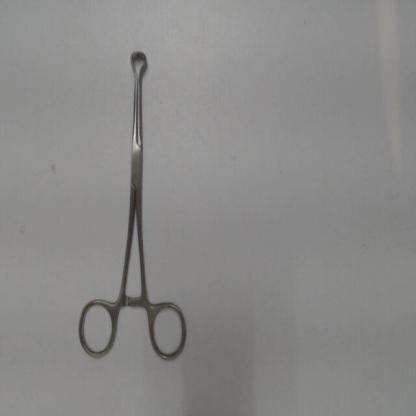Babcock Tissue Forceps: (76, 46, 190, 363)
